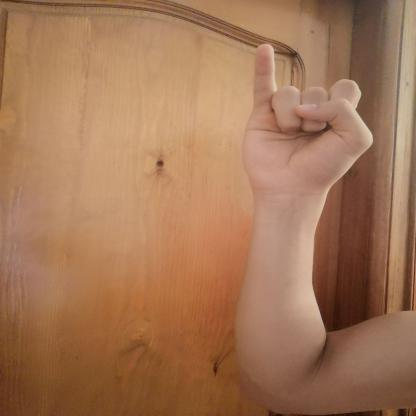MEEM: (228, 32, 384, 204)
